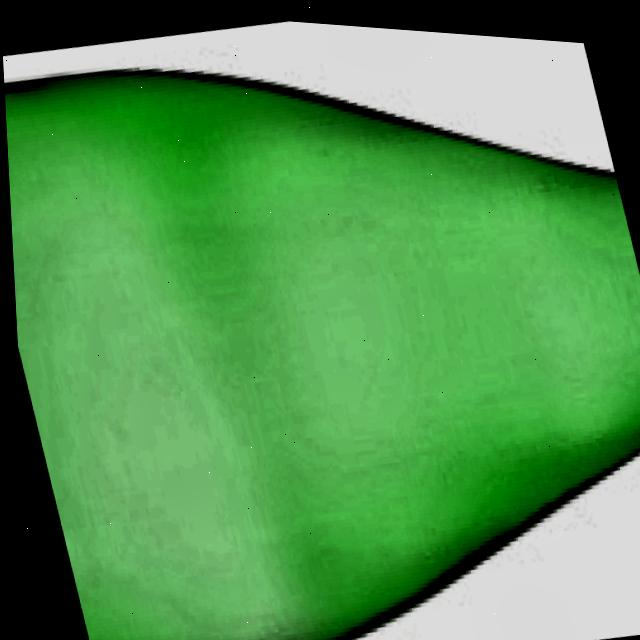glass: (3, 55, 640, 640)
